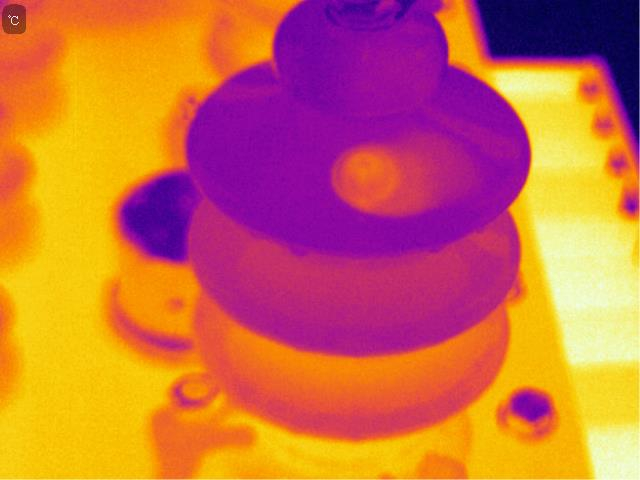Oil: (323, 134, 478, 217), (219, 47, 294, 98), (286, 240, 312, 261)
